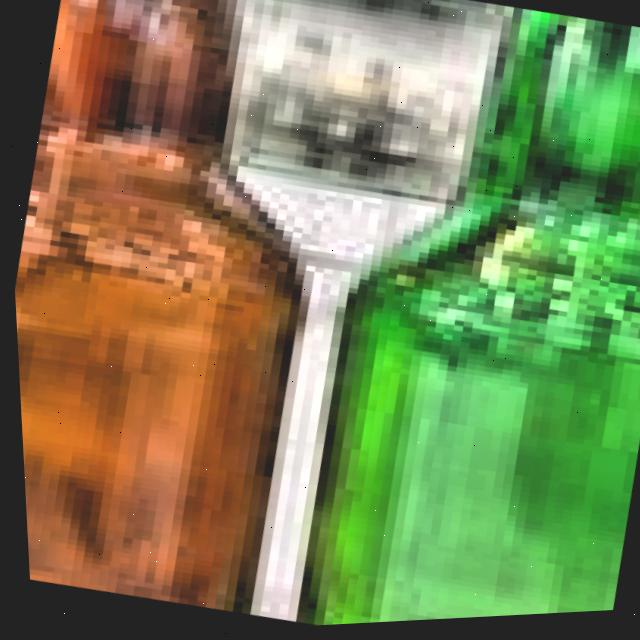glass: (288, 11, 640, 628), (12, 0, 305, 618)
